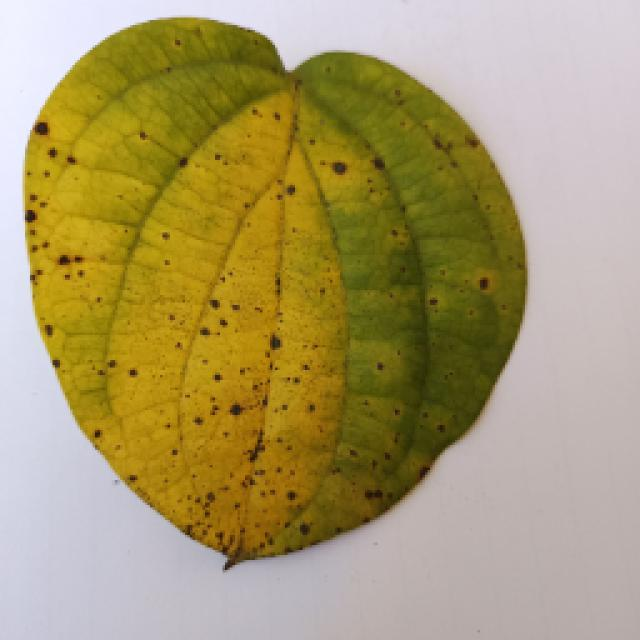slow-decline: (12, 40, 530, 575)
